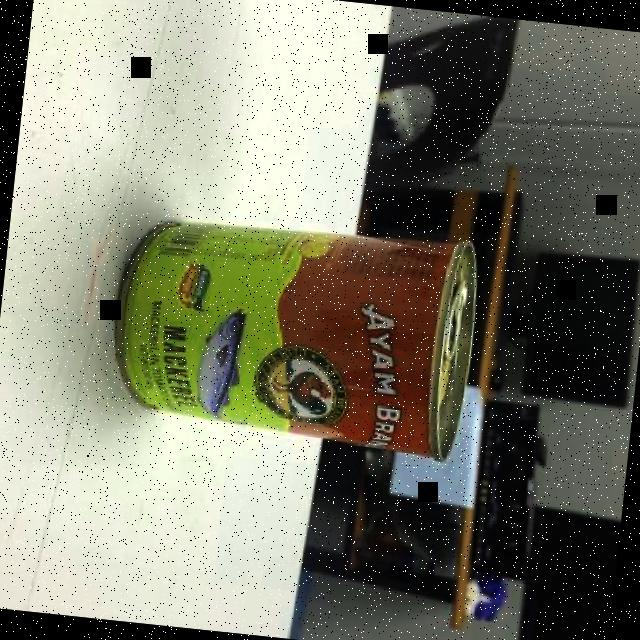can: (99, 207, 482, 463)
